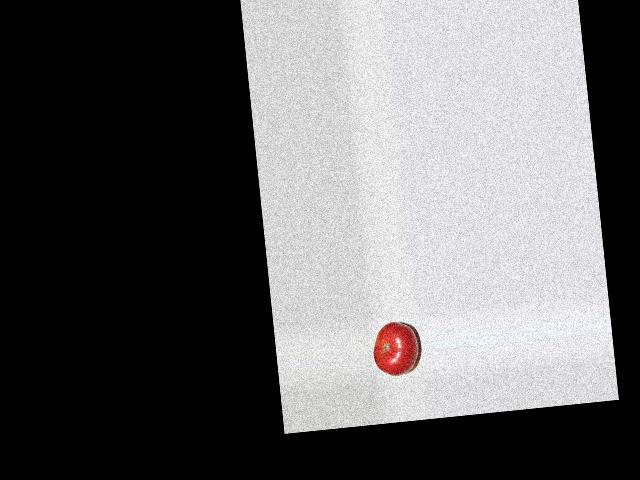tomato: (370, 319, 420, 378)
